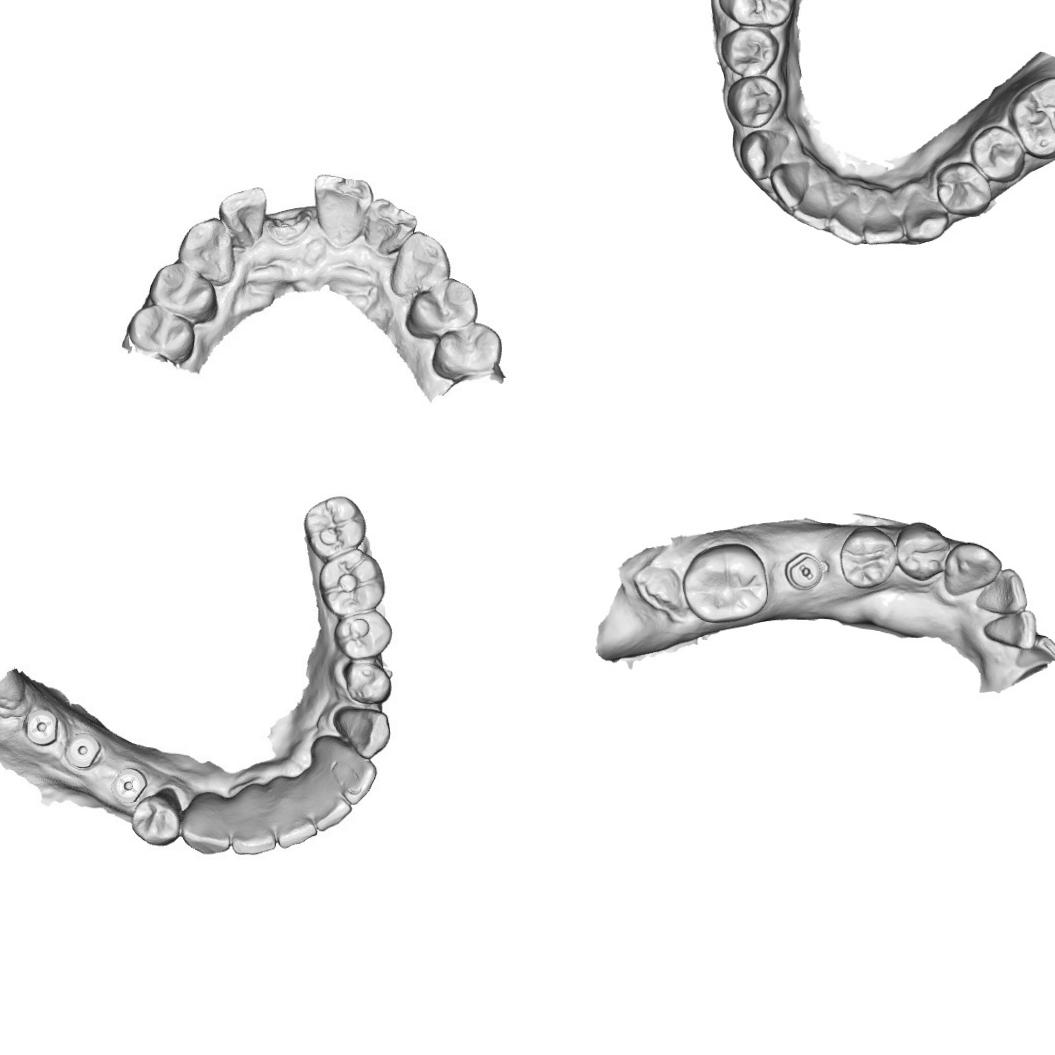canine: (388, 232, 456, 300), (176, 214, 238, 288), (942, 540, 1004, 598), (332, 704, 392, 758), (738, 124, 788, 183), (180, 802, 231, 858), (902, 186, 950, 245)
implant: (66, 729, 103, 773)
implant_minus: (782, 549, 829, 594)
implant_plus: (17, 702, 63, 752), (104, 764, 147, 801)
incisor: (314, 171, 370, 243), (216, 184, 270, 248), (360, 198, 416, 256), (328, 748, 377, 806), (975, 565, 1030, 614), (980, 608, 1038, 651), (858, 198, 905, 250), (768, 158, 814, 210), (788, 183, 835, 232), (275, 802, 320, 853), (825, 192, 866, 246), (233, 801, 274, 855), (310, 782, 352, 832), (1015, 633, 1055, 672)
molar: (679, 541, 771, 625), (1006, 73, 1055, 160), (324, 549, 384, 613), (308, 494, 364, 556), (715, 0, 799, 29)
premolar: (429, 322, 508, 384), (402, 275, 478, 337), (127, 303, 203, 364), (151, 259, 219, 324), (838, 524, 898, 589), (894, 520, 953, 583), (968, 125, 1028, 184), (724, 75, 786, 130), (934, 161, 995, 216), (720, 25, 782, 76), (130, 792, 184, 848), (344, 656, 396, 708), (341, 610, 390, 653)
